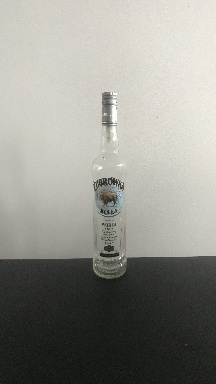butelka: (90, 88, 128, 282)
